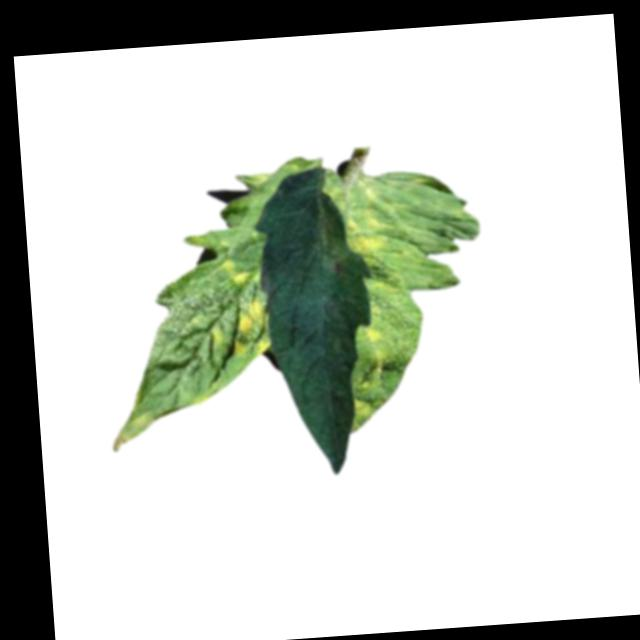Leaf_Mold: (206, 301, 272, 361), (341, 213, 391, 253), (218, 255, 253, 291)
